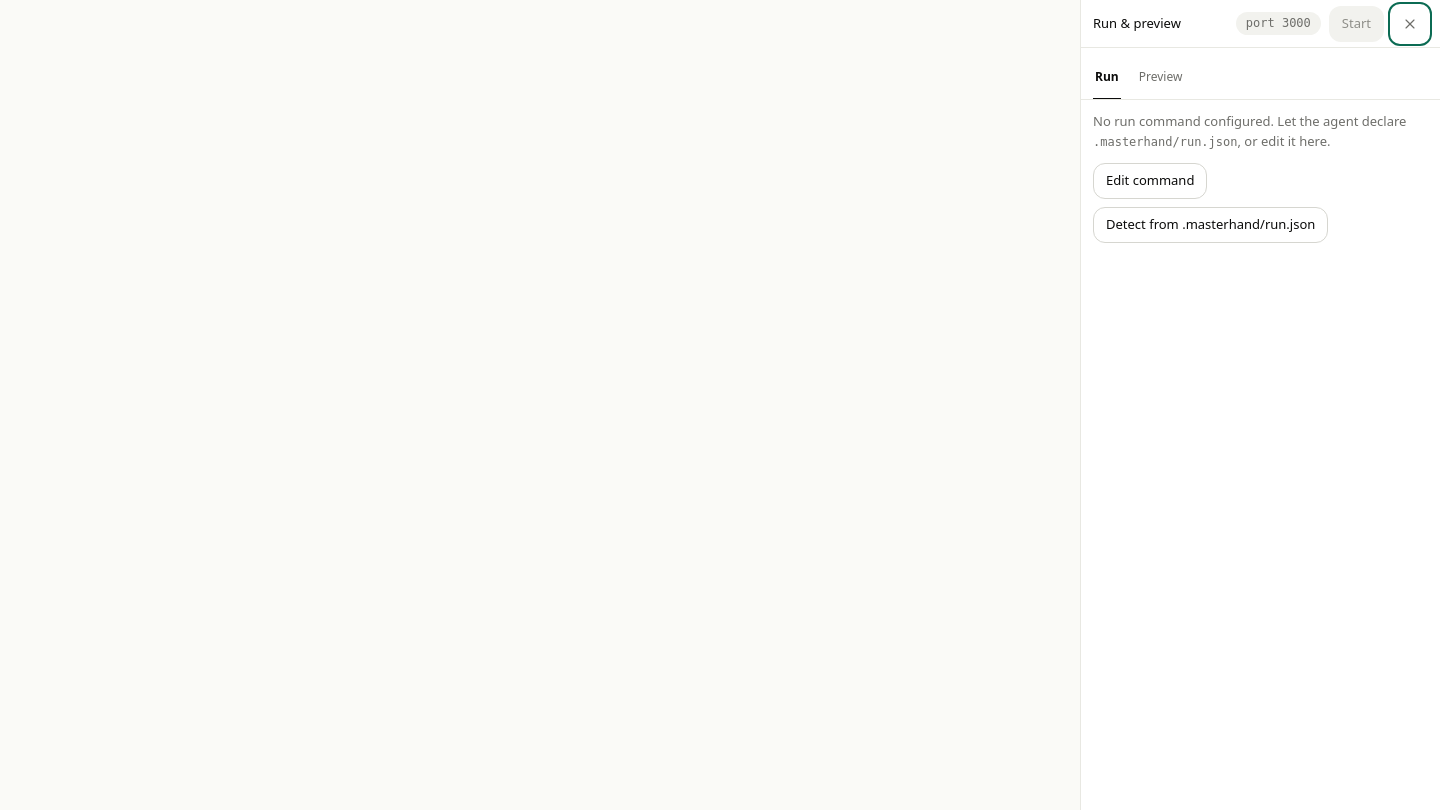
it: RunPreviewSheet preview lifecycle › shows the retained URL, clearly labelled, after the preview errors
The image size is (1440, 810).
Click the tab "Preview" at (1161, 78), box [1137,56,1184,100]
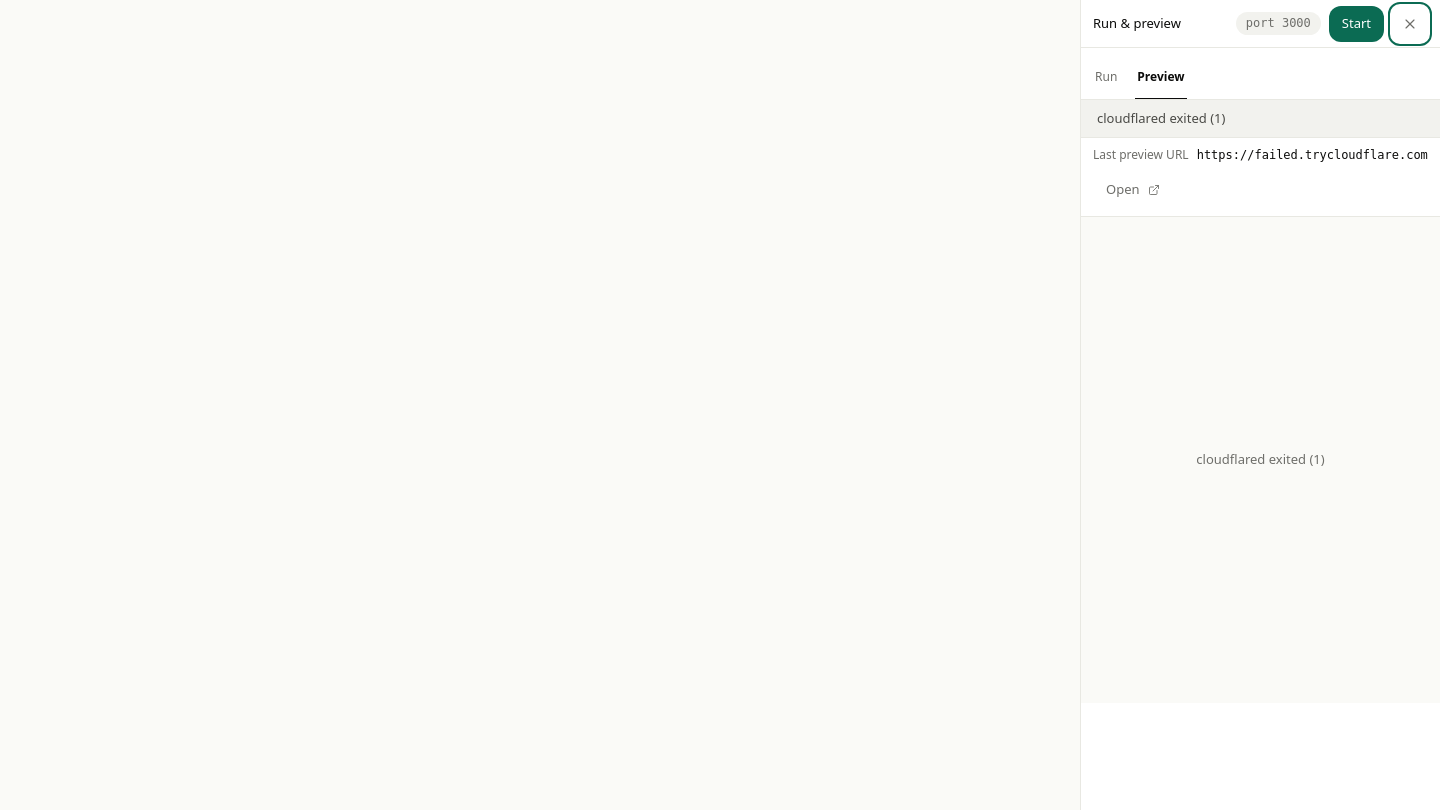
Check: the text "Last preview URL" is shown, box [1093,146,1189,164]
Check: the text "https://failed.trycloudflare.com" is shown, box [1197,146,1428,164]
Check: the message reads "cloudflared exited (1)", box [1097,109,1225,127]
